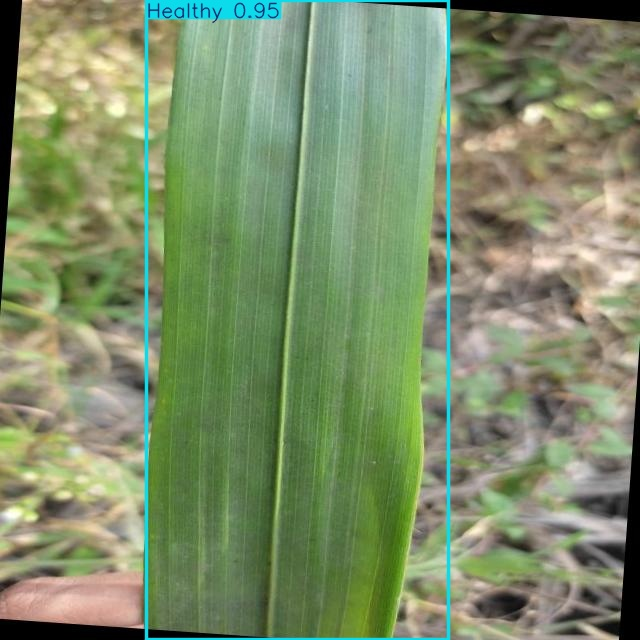Healthy: (146, 0, 449, 640)
